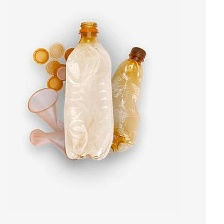bottle: (62, 17, 112, 163), (105, 43, 149, 154)
glass: (23, 123, 80, 161), (26, 85, 68, 132)
